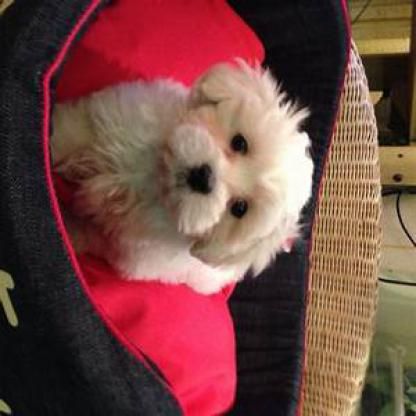dog: (48, 58, 319, 290)
